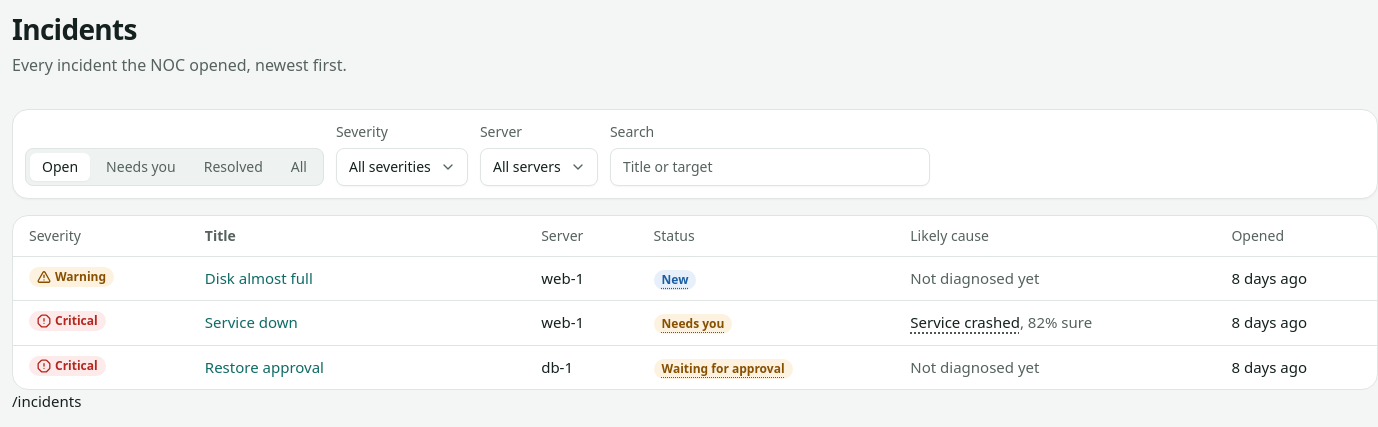
IncidentsPage › writes the chosen severity to the URL and clears it for All severities
Expected: the link "Disk almost full" is shown, [205,268,313,288]
Select "Critical" in the dropdown labelled "Severity". click: (402, 167)
box: [336,148,468,186]
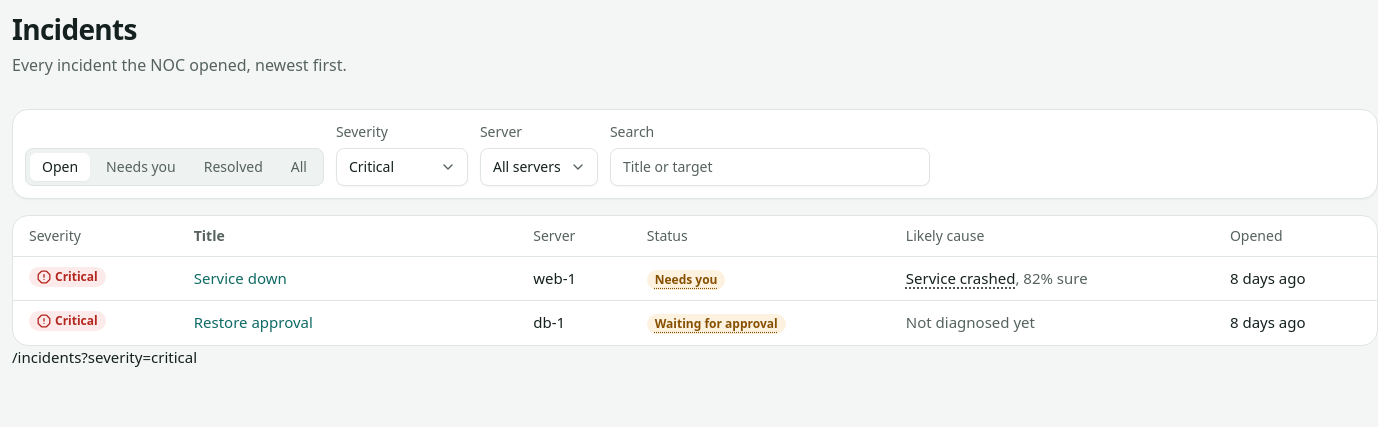
Expected: the text with test id "location" reads "/incidents?severity=critical", [12,346,197,366]
Select "All severities" in the dropdown labelled "Severity". click: (402, 167)
box: [336,148,468,186]
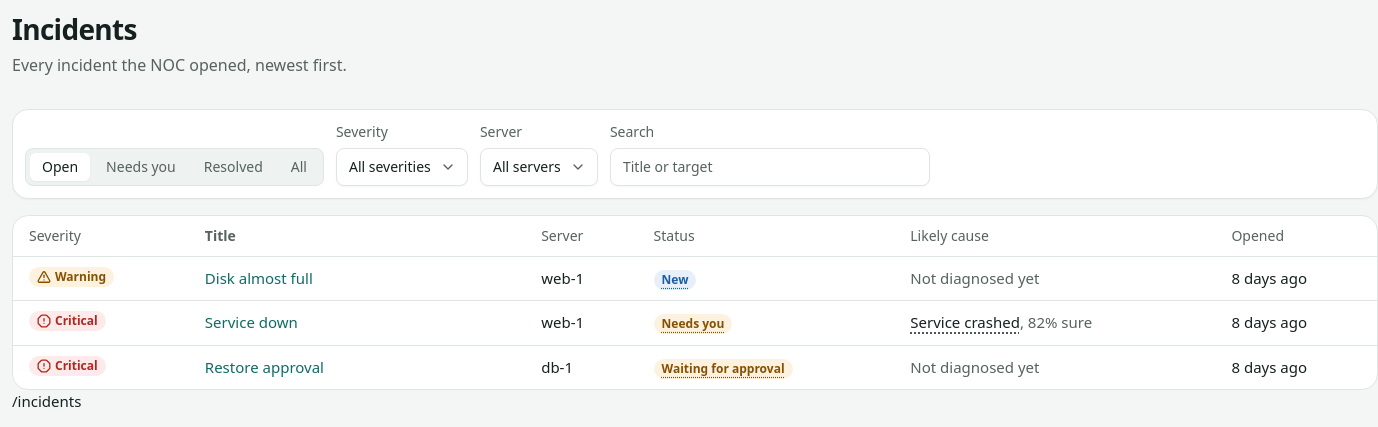
Expected: the text with test id "location" reads "/incidents", [12,391,81,411]
